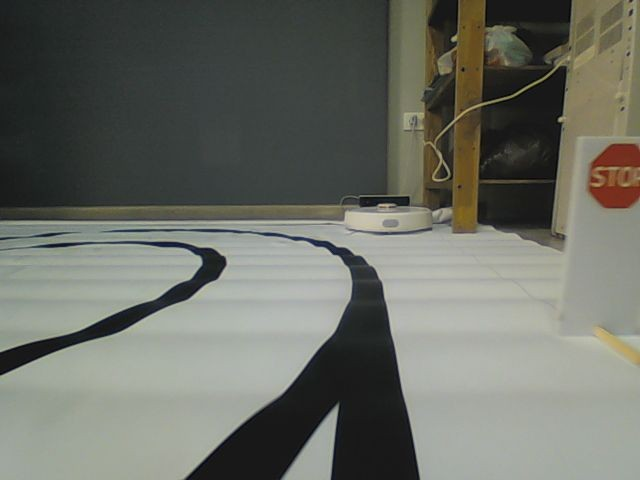Stop: (586, 140, 640, 211)
